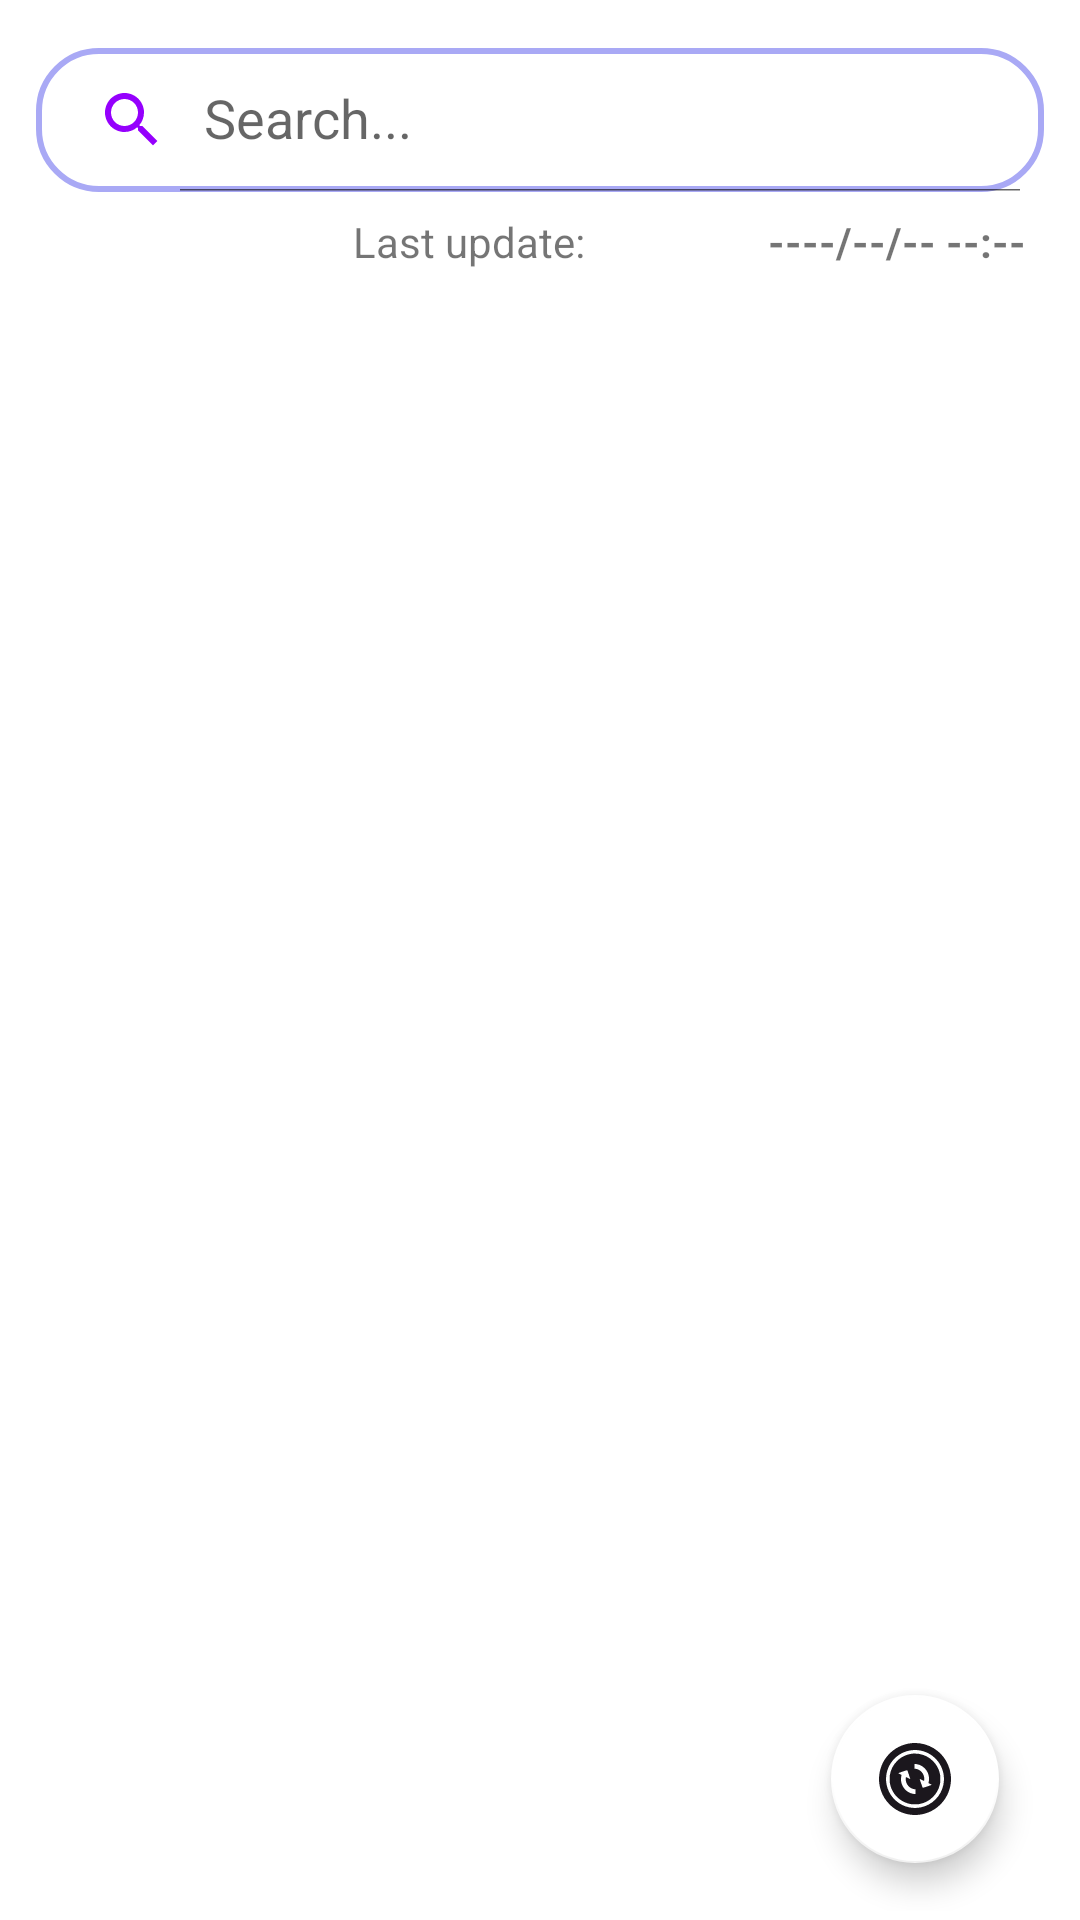

Icons on this 1080px×1920px Android screen, each with the point to tap as [x,y]:
Refresh: [893,1779]
